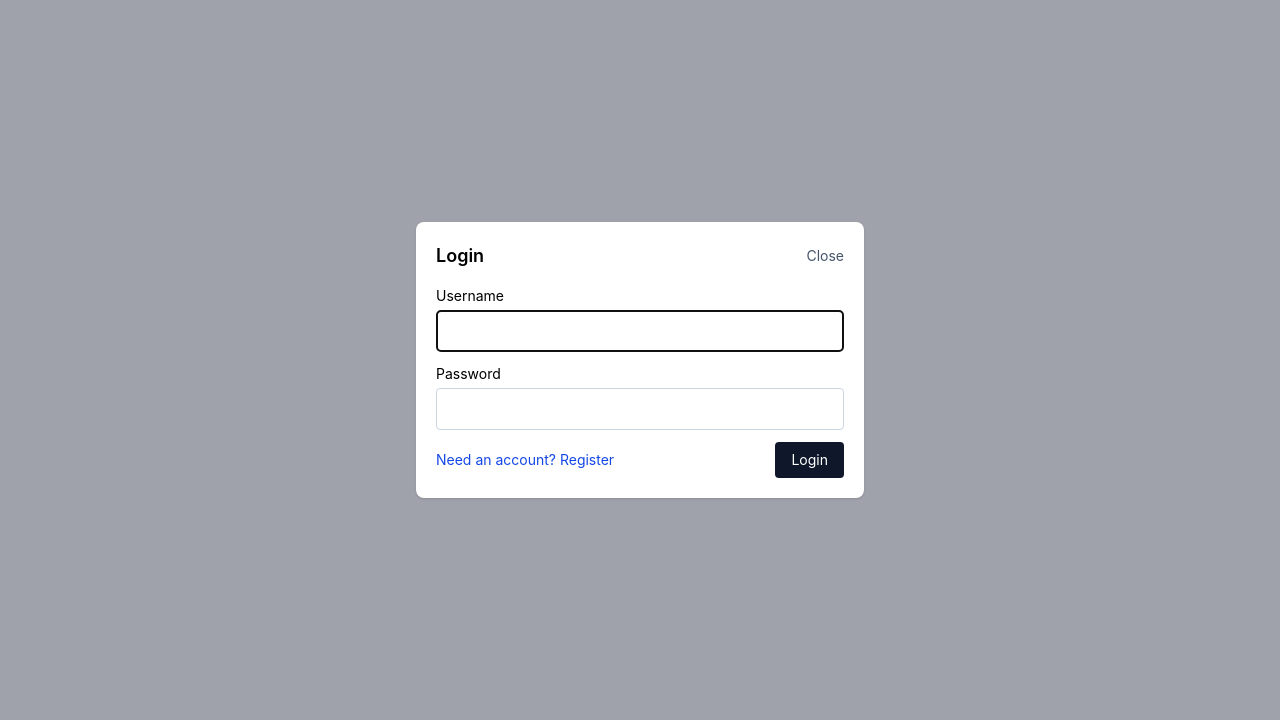
AuthModal › shows an error and keeps modal open when auth fails
Type "alice" into the field labelled "Username" at {"x": 640, "y": 331}, box x1=436 y1=310 x2=844 y2=352
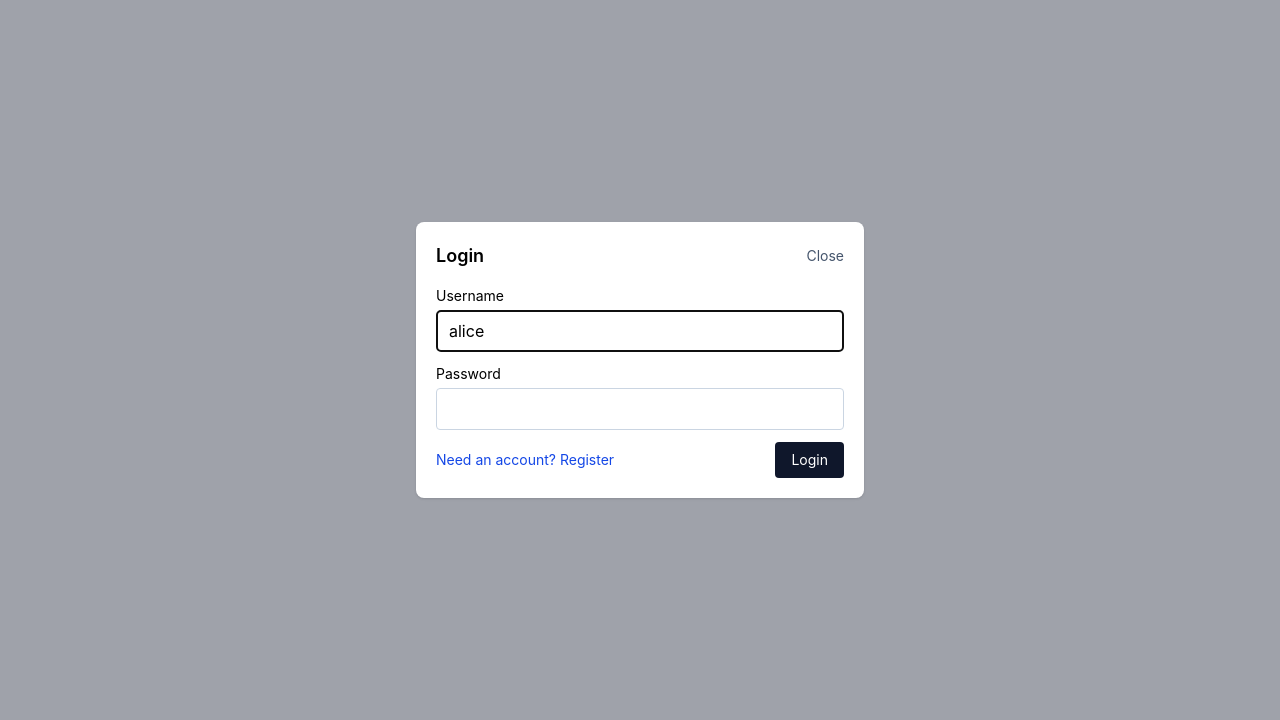
Type "password123" into the password field labelled "Password" at {"x": 640, "y": 409}, box x1=436 y1=388 x2=844 y2=430
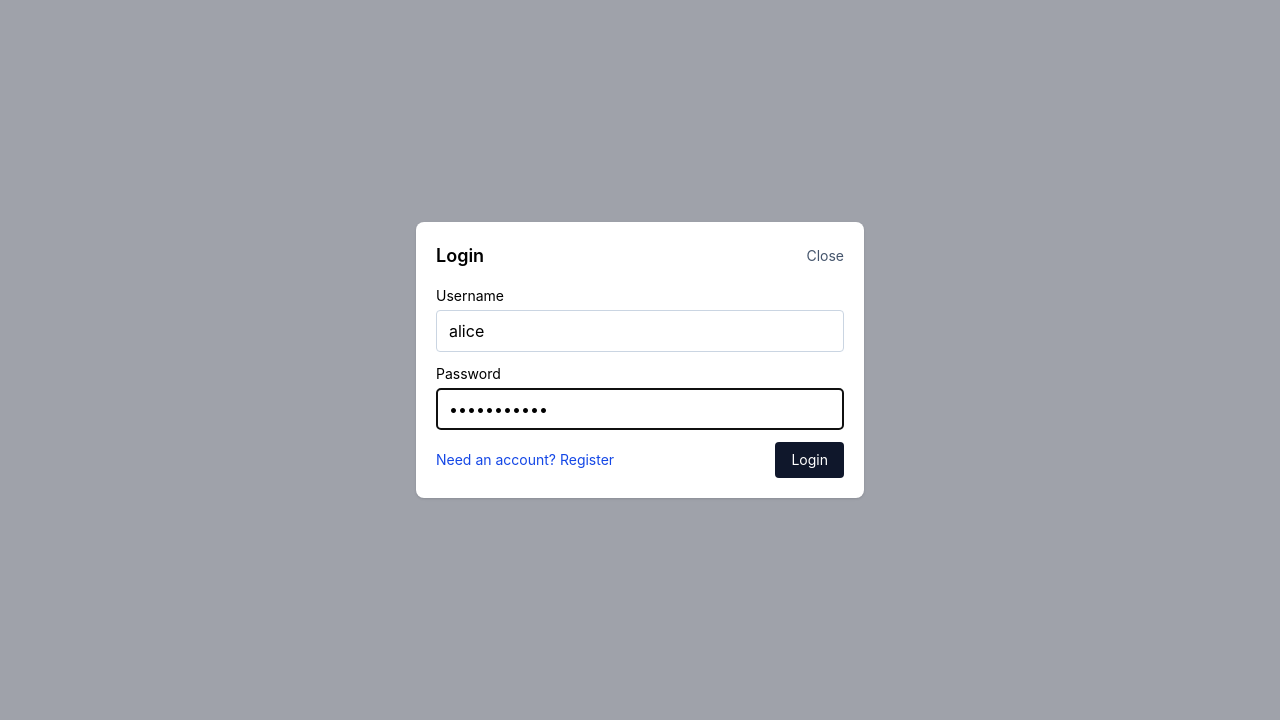
Click the button "Login" at {"x": 810, "y": 460}, box x1=775 y1=442 x2=844 y2=478
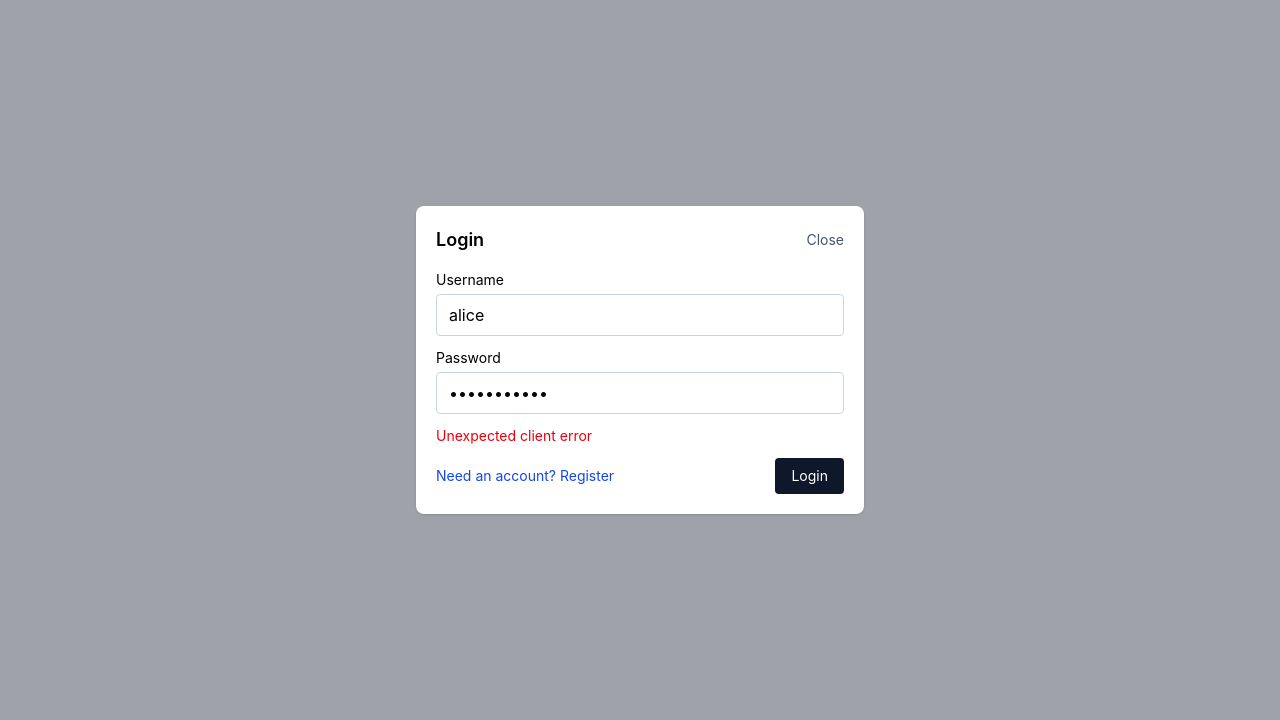
Expected: the message reads "Unexpected client error", x1=436 y1=427 x2=592 y2=444
